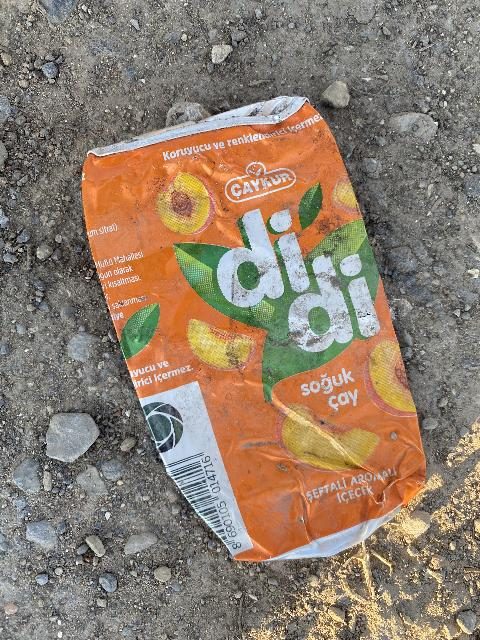Metal: (51, 87, 432, 567)
